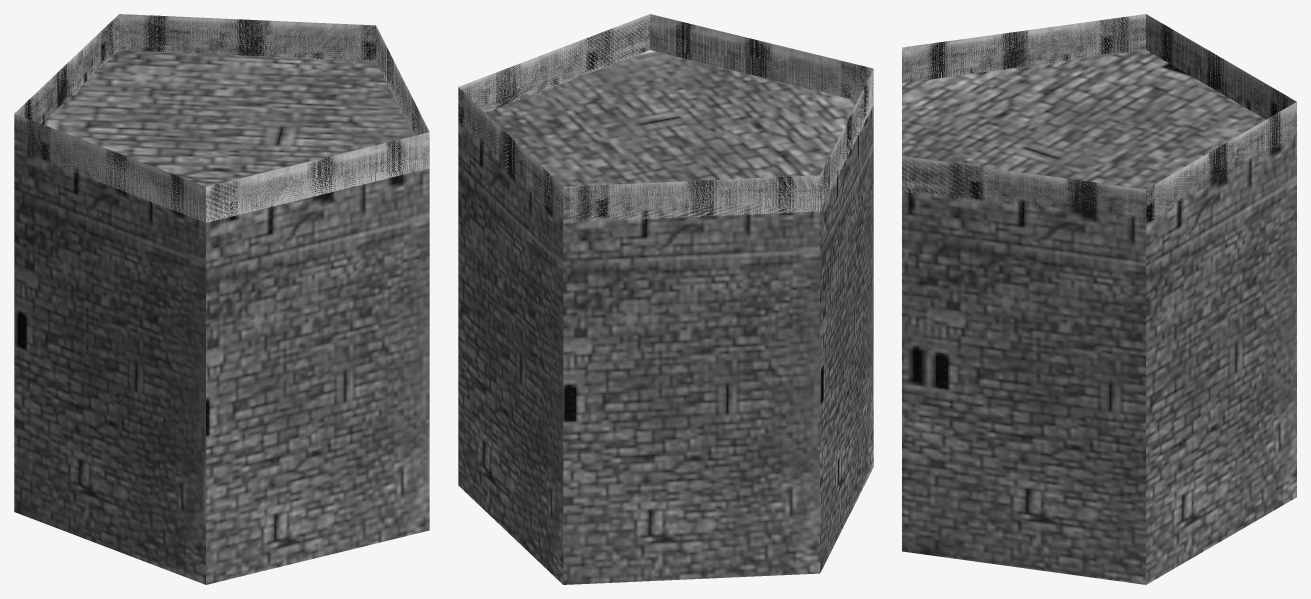
The model's file is keep.obj.
3 views of the same model, side by side, from view 1: azimuth 30°, elevation 25°; view 2: azimuth 150°, elevation 25°; view 3: azimuth 270°, elevation 25° (orthographic).
Bounding box in the file's own units: 1.9 × 2 × 1.81.
